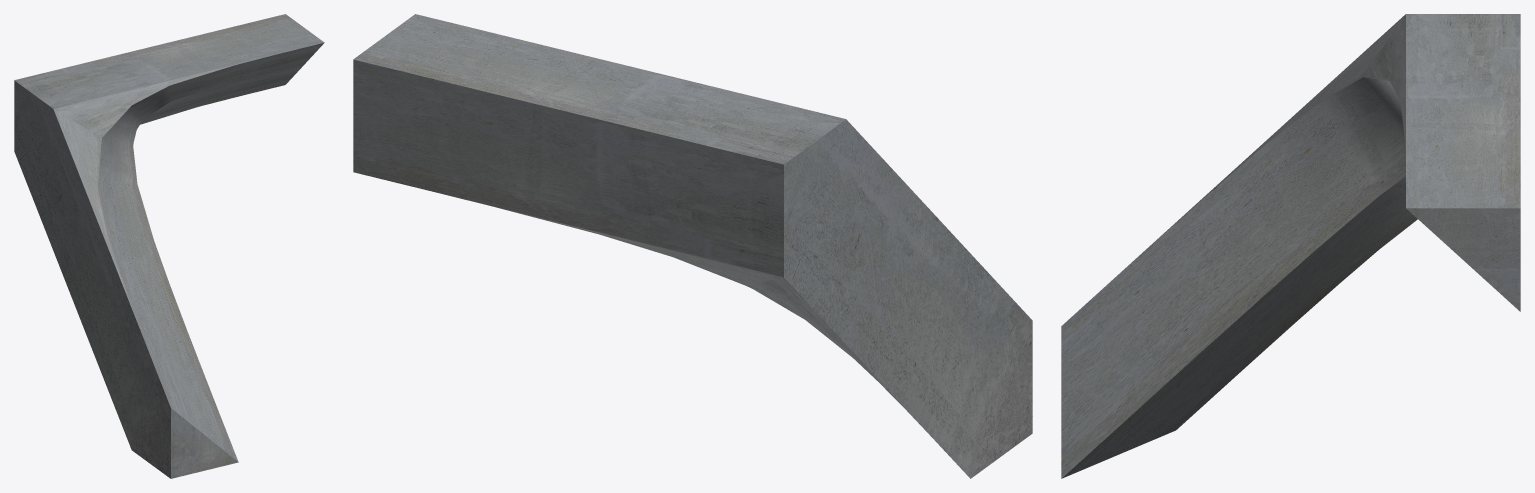
File: module_G2.fbx
3 renders of one model, left to right at view 1: azimuth 30°, elevation 25°; view 2: azimuth 150°, elevation 25°; view 3: azimuth 270°, elevation 25°, orthographic. The views are drawn at different scales.
Visible parts, largest first — view 1: modules; view 2: modules; view 3: modules.
Part boxes in pixels (box(x1,y1,x2,y2)): modules: box(14, 14, 324, 478); modules: box(353, 14, 1032, 478); modules: box(1061, 14, 1520, 478).
Size of the model in its own units: 1000 by 1000 by 1000.
1 material, 1 textured.
